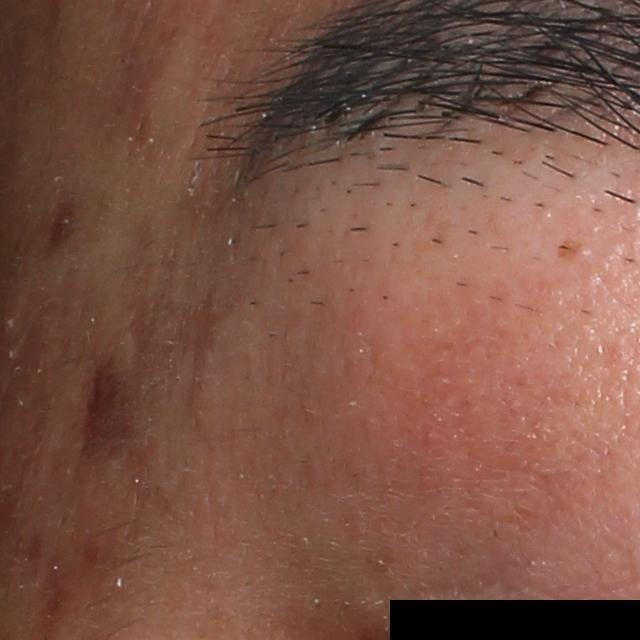melasma: (554, 235, 586, 264)
